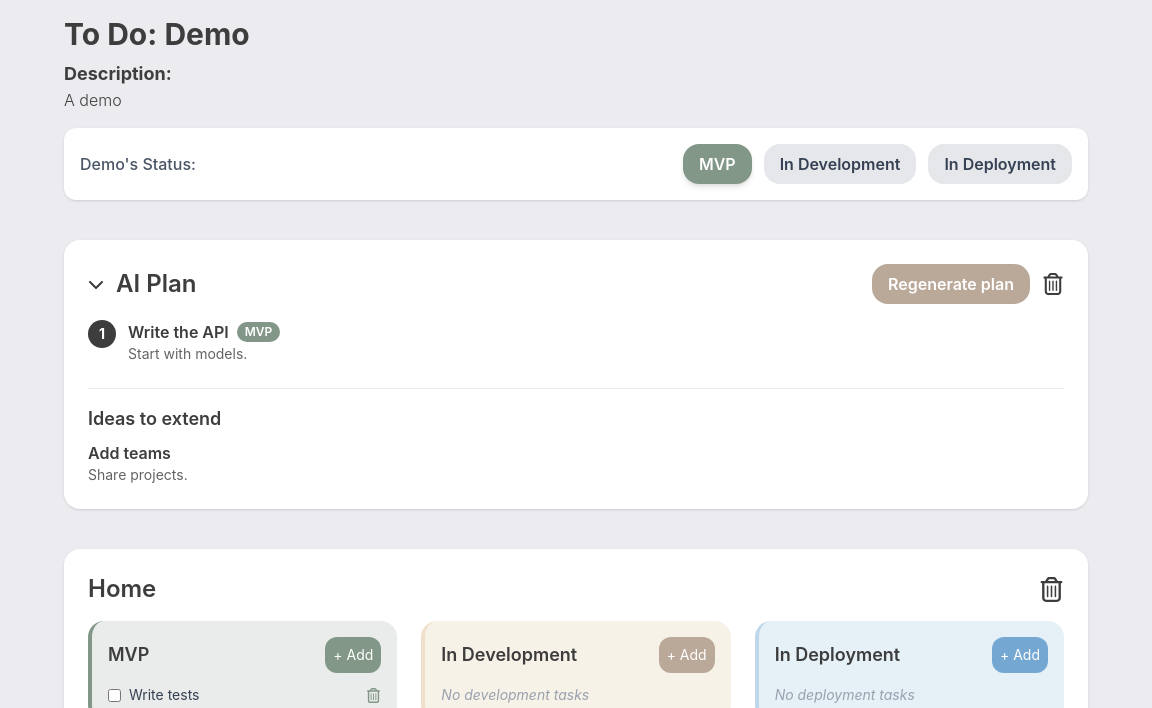
Test: ProjectDetail › AI plan › a failed delete keeps the plan and shows the error
The image size is (1152, 708).
Expected: the text "Write the API" is shown, [128,320,229,344]
Click the button named "Delete AI plan".
click(1053, 284)  # box [1042,273,1064,295]
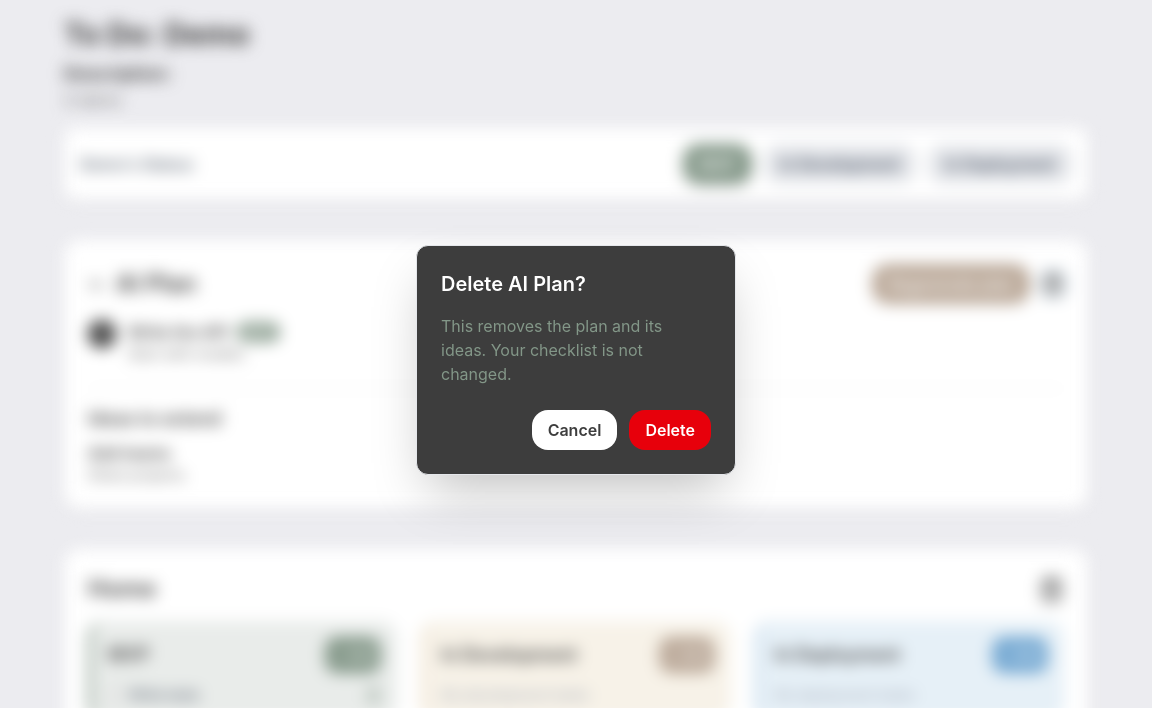
Click the button "Delete".
click(670, 430)  # box [629,410,711,450]
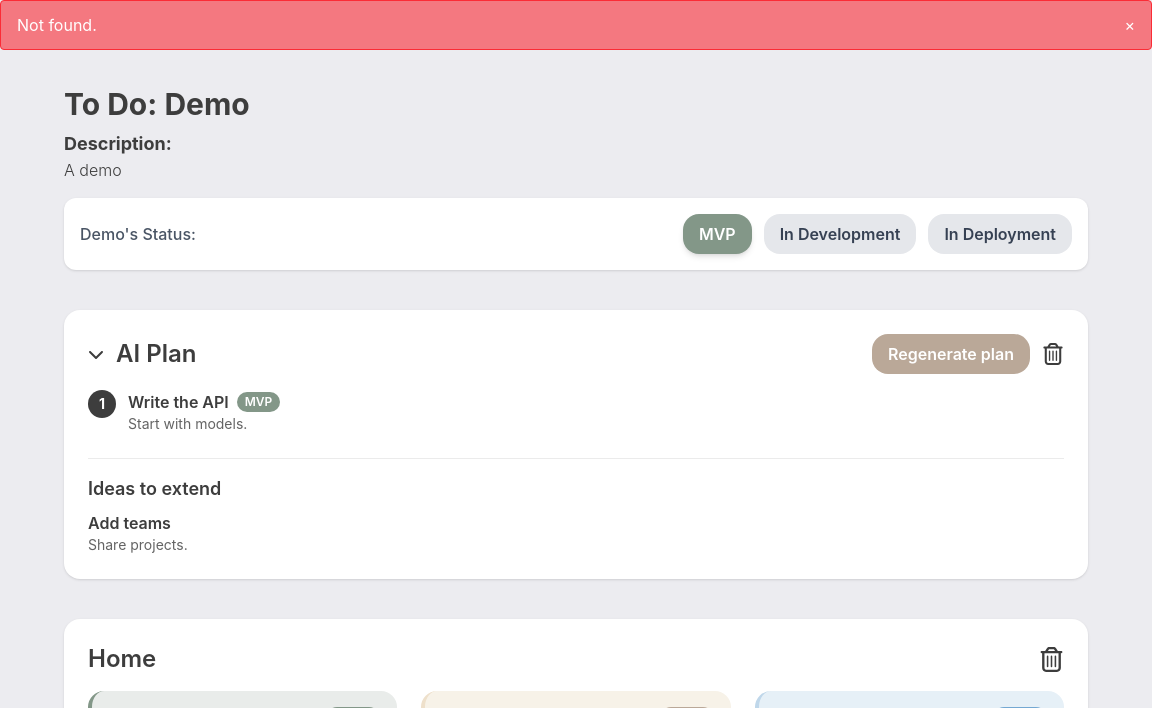
Expected: the text "Write the API" is shown, [128,390,229,414]
Expected: the text "Not found." is shown, [17,15,97,35]
